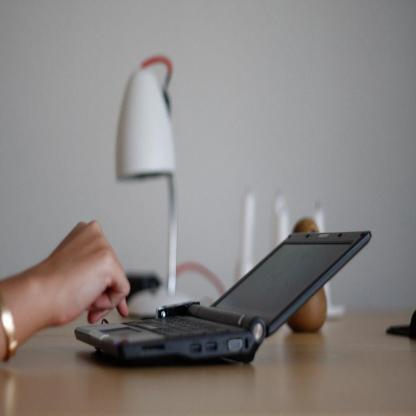board: (75, 232, 372, 362)
